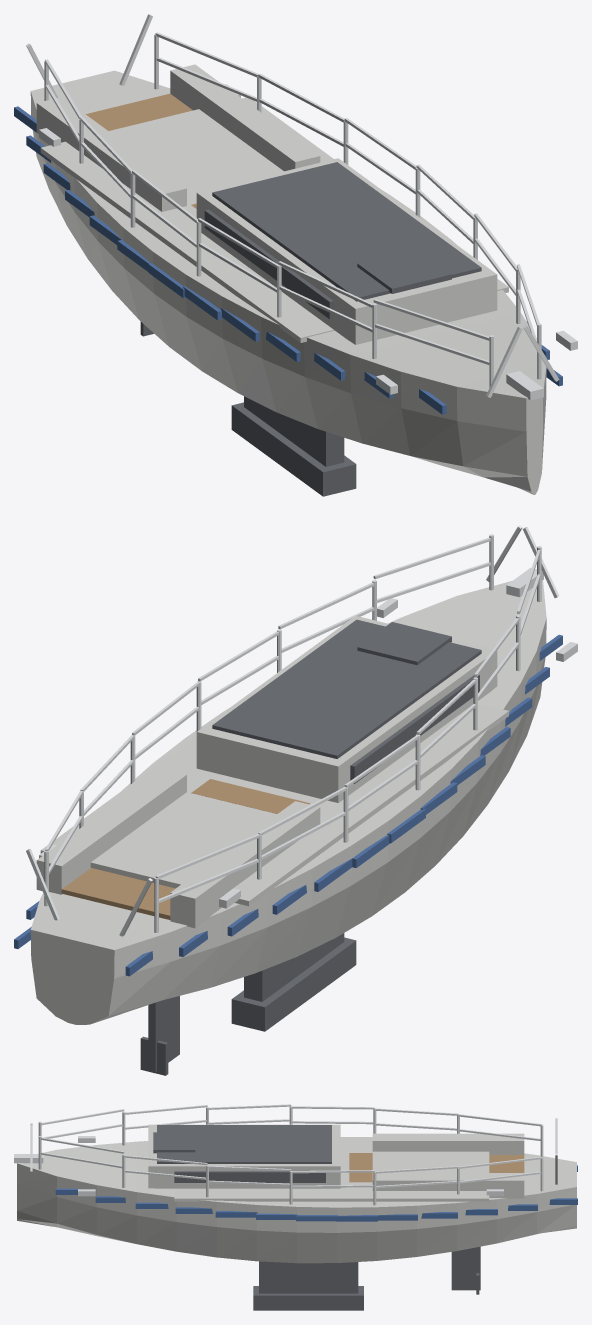
Rendered from marina-and-yacht-club-marina-and-yacht-club-sailing-ya-91b7ffaa__38302.glb.
3 views of the same model, one above another, from view 1: azimuth 30°, elevation 25°; view 2: azimuth 150°, elevation 25°; view 3: azimuth 270°, elevation 25° (orthographic). The views are drawn at different scales.
Visible parts, largest first — view 1: marina-and-yacht-club-sailing-yacht-hull; view 2: marina-and-yacht-club-sailing-yacht-hull; view 3: marina-and-yacht-club-sailing-yacht-hull.
Part boxes in pixels (<box>): marina-and-yacht-club-sailing-yacht-hull: <box>14,14,577,496</box>; marina-and-yacht-club-sailing-yacht-hull: <box>14,525,577,1075</box>; marina-and-yacht-club-sailing-yacht-hull: <box>14,1104,577,1310</box>.
Bounding box in the file's own units: 2.91 × 3.44 × 9.67.
